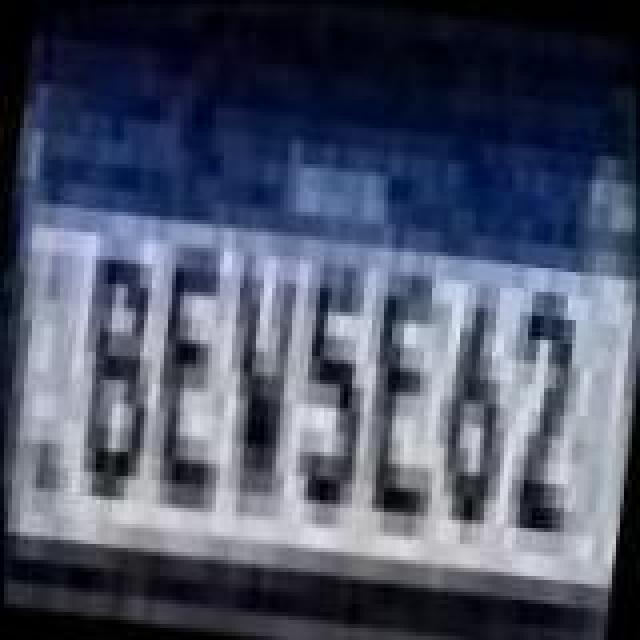2: (488, 284, 604, 548)
5: (274, 252, 386, 528)
6: (422, 276, 526, 540)
B: (54, 242, 170, 502)
E: (346, 260, 466, 532), (134, 240, 250, 520)
W: (204, 248, 312, 520)
